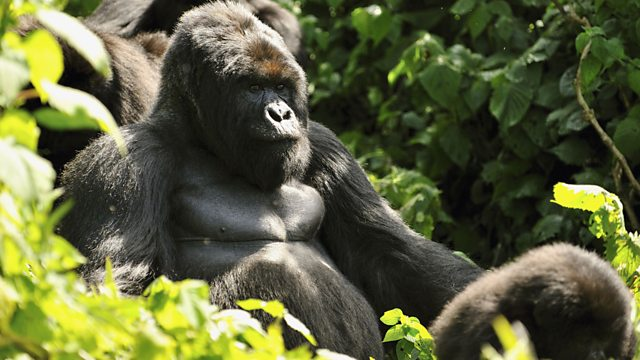Goriila: (74, 14, 480, 354)
